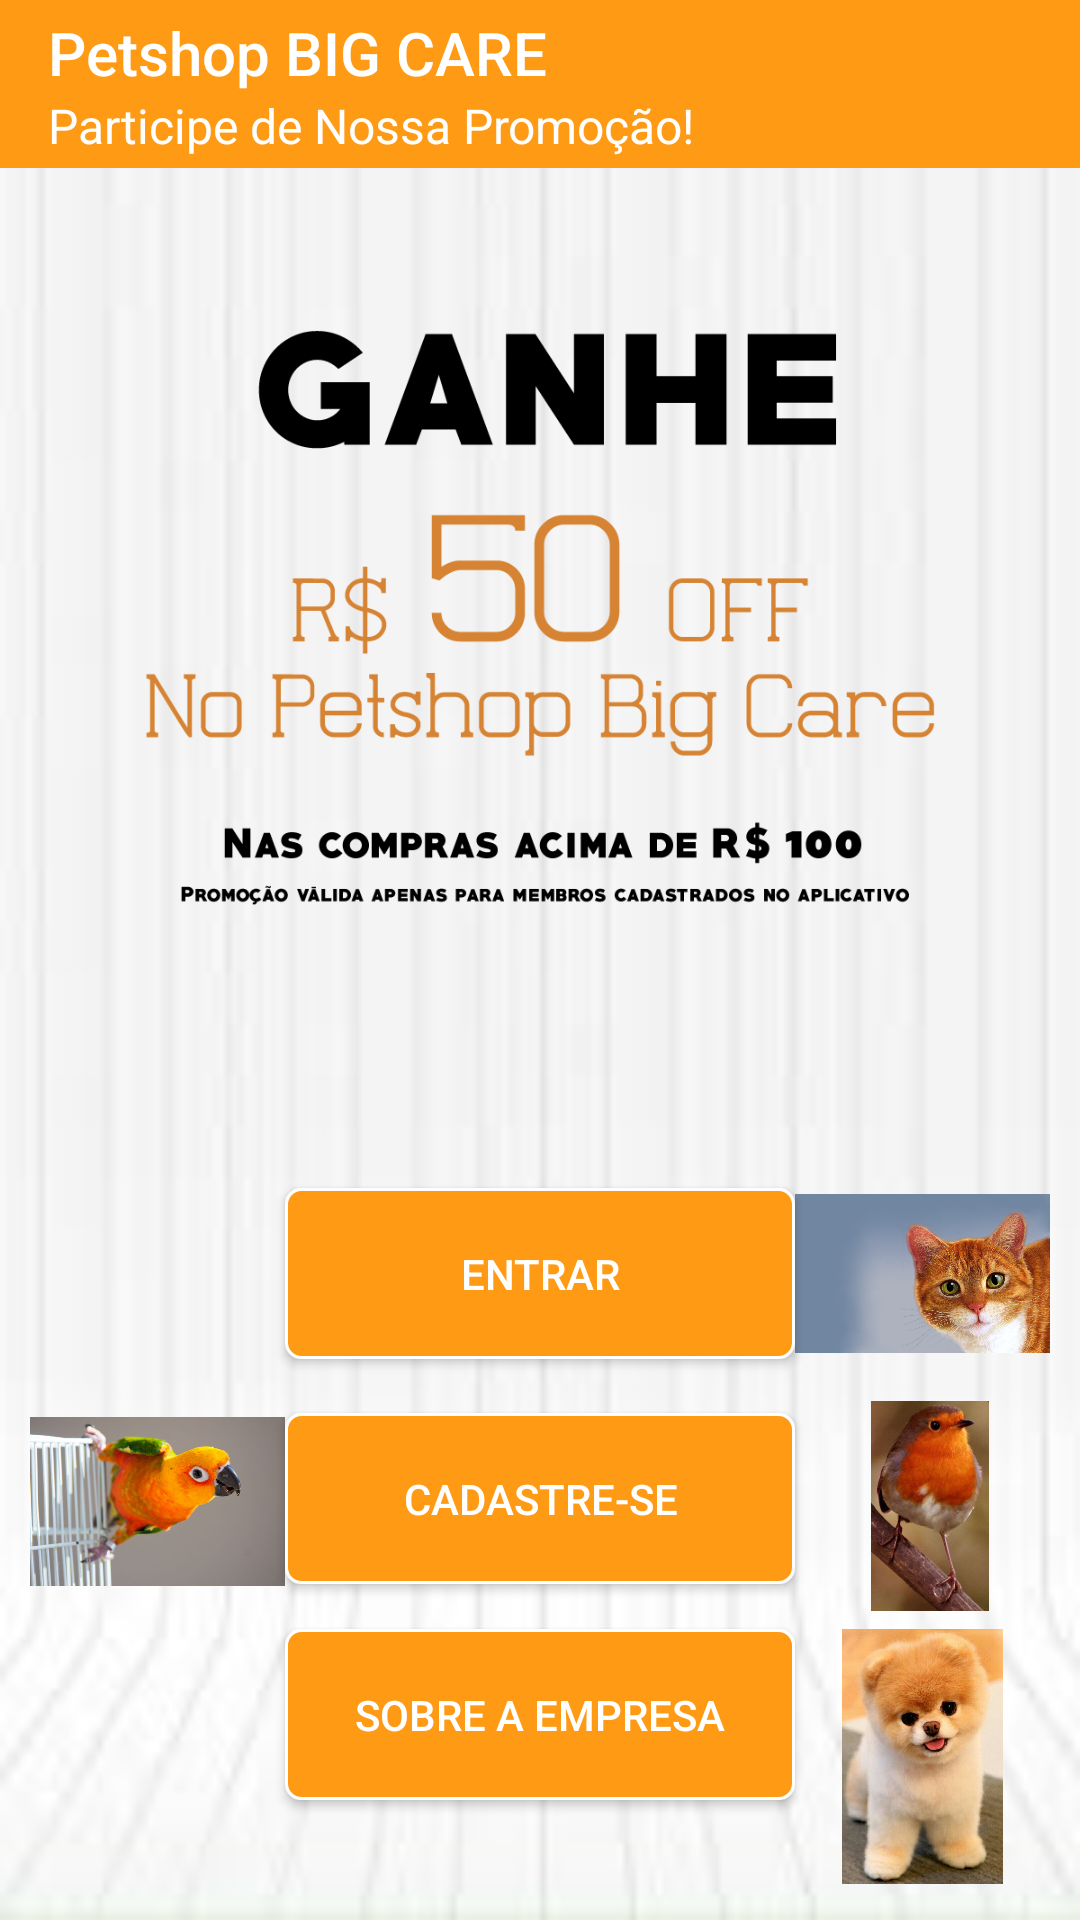

Named icons in this screenshot (1080 × 1920) and their centers, point (x, y):
ascat: point (922, 1275)
